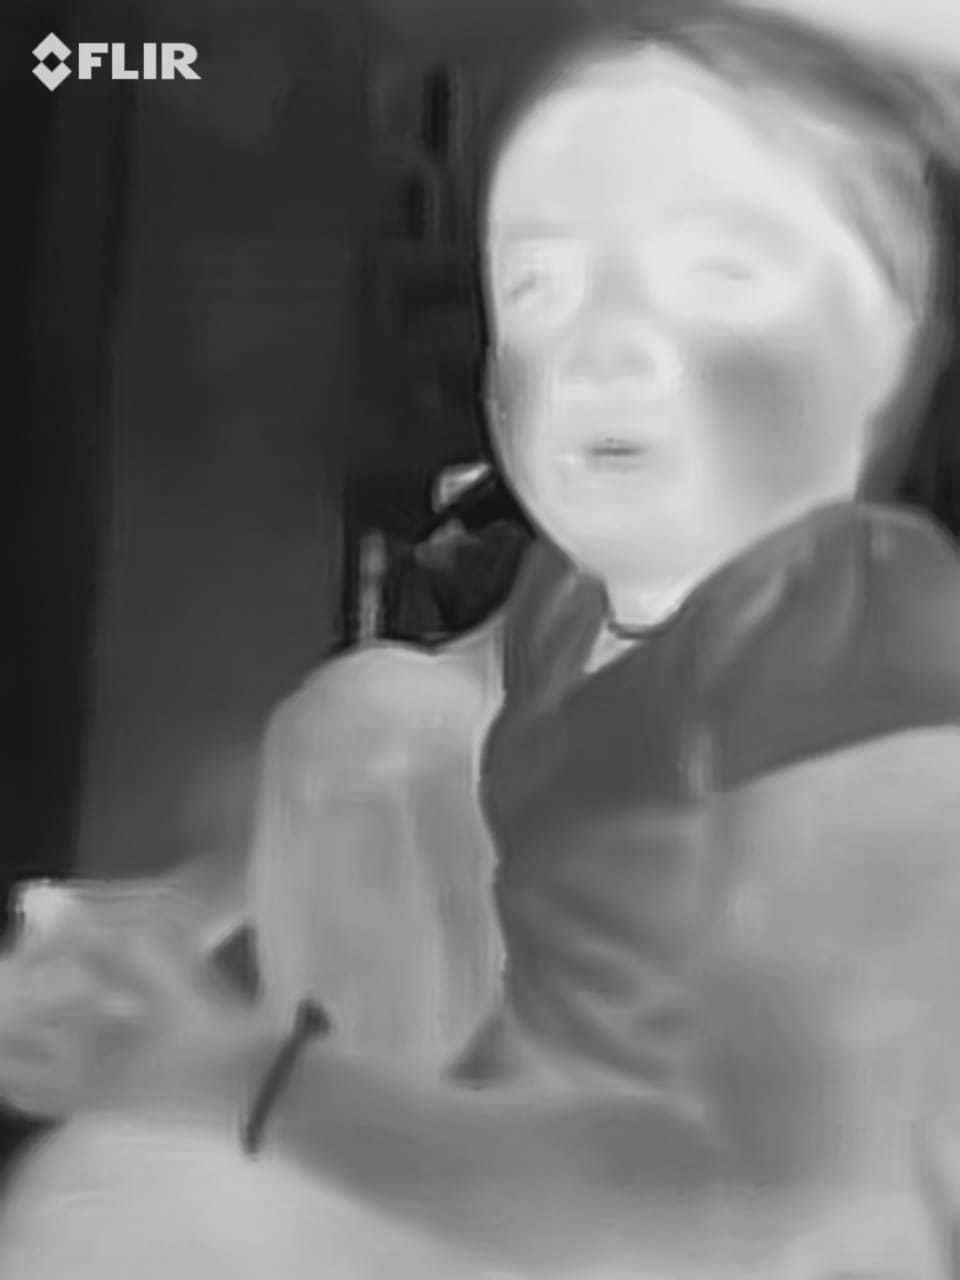head: (460, 23, 932, 603)
